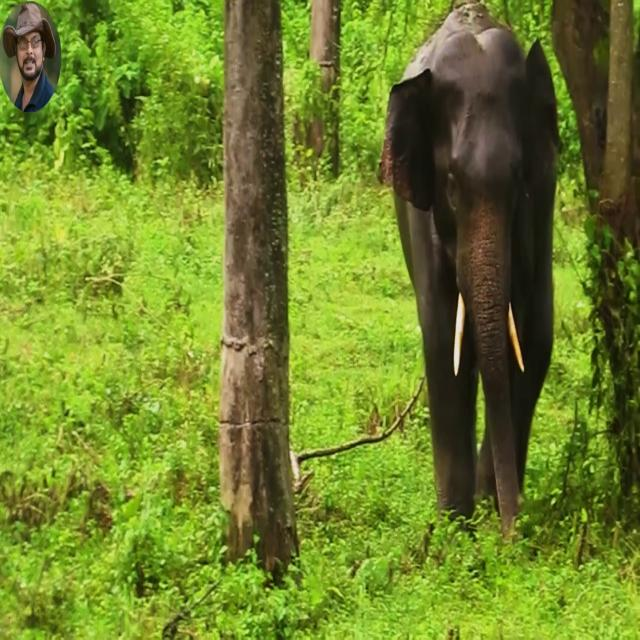Elephant: (377, 2, 561, 543)
